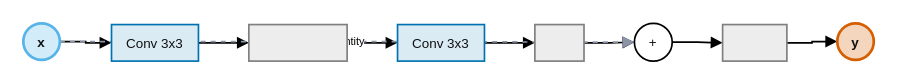
This 897x83 diagram has some shape labels left out. Here are the shapes that lost their labels. From the top down, the centre of each, then its label:
At [297,42]: "BN + ReLU".
At [558,42]: "BN".
At [754,42]: "ReLU".
